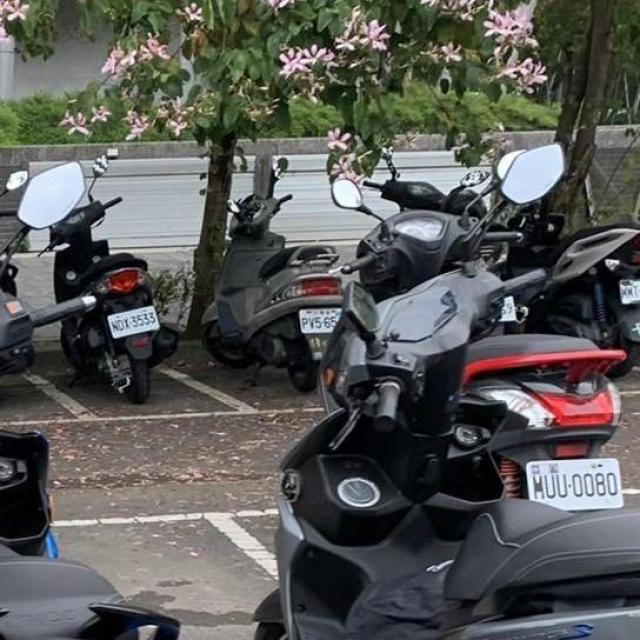W: (522, 446, 627, 514), (101, 301, 167, 341), (292, 303, 352, 339), (612, 272, 640, 309)
